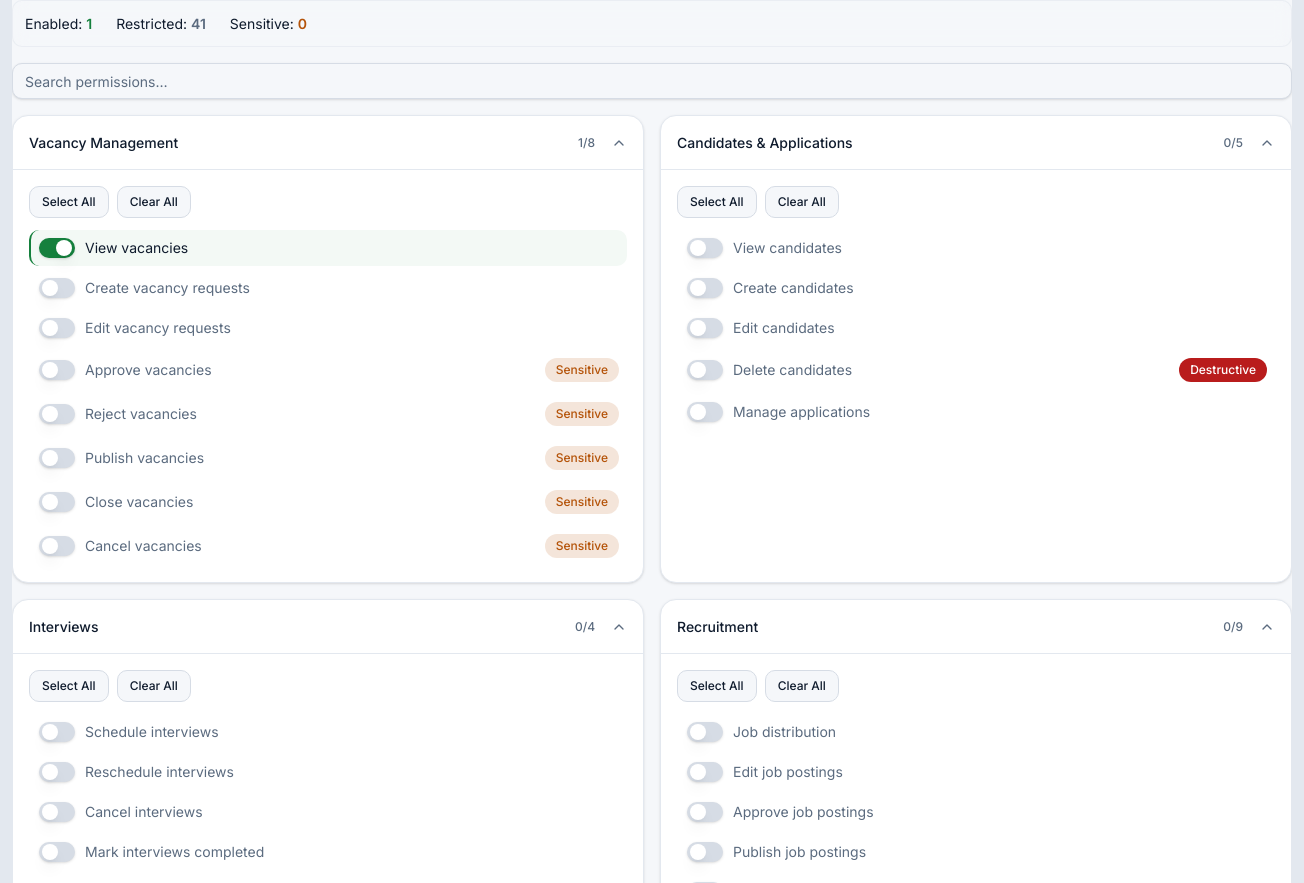
Scenario: PermissionCategoryCards › shows an n/total count per section that tracks the draft
The width and height of the screenshot is (1304, 883).
Expected: the text "1/8" is shown, [578, 134, 595, 152]
Click the switch named "Close vacancies" next to "Close vacancies". click: click(57, 502)
box: [39, 492, 75, 512]
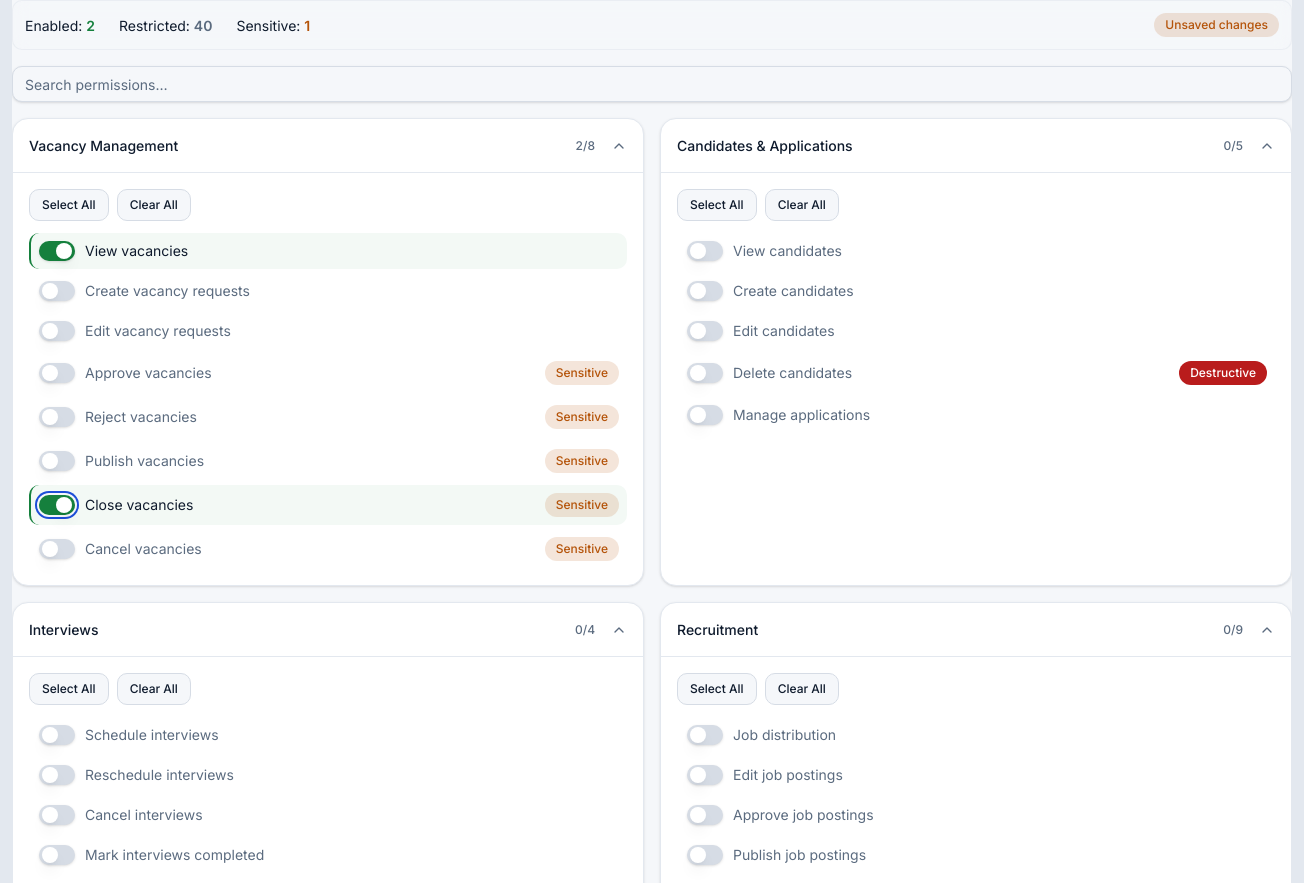
Result: the text "2/8" is shown at [576, 136, 595, 154]
